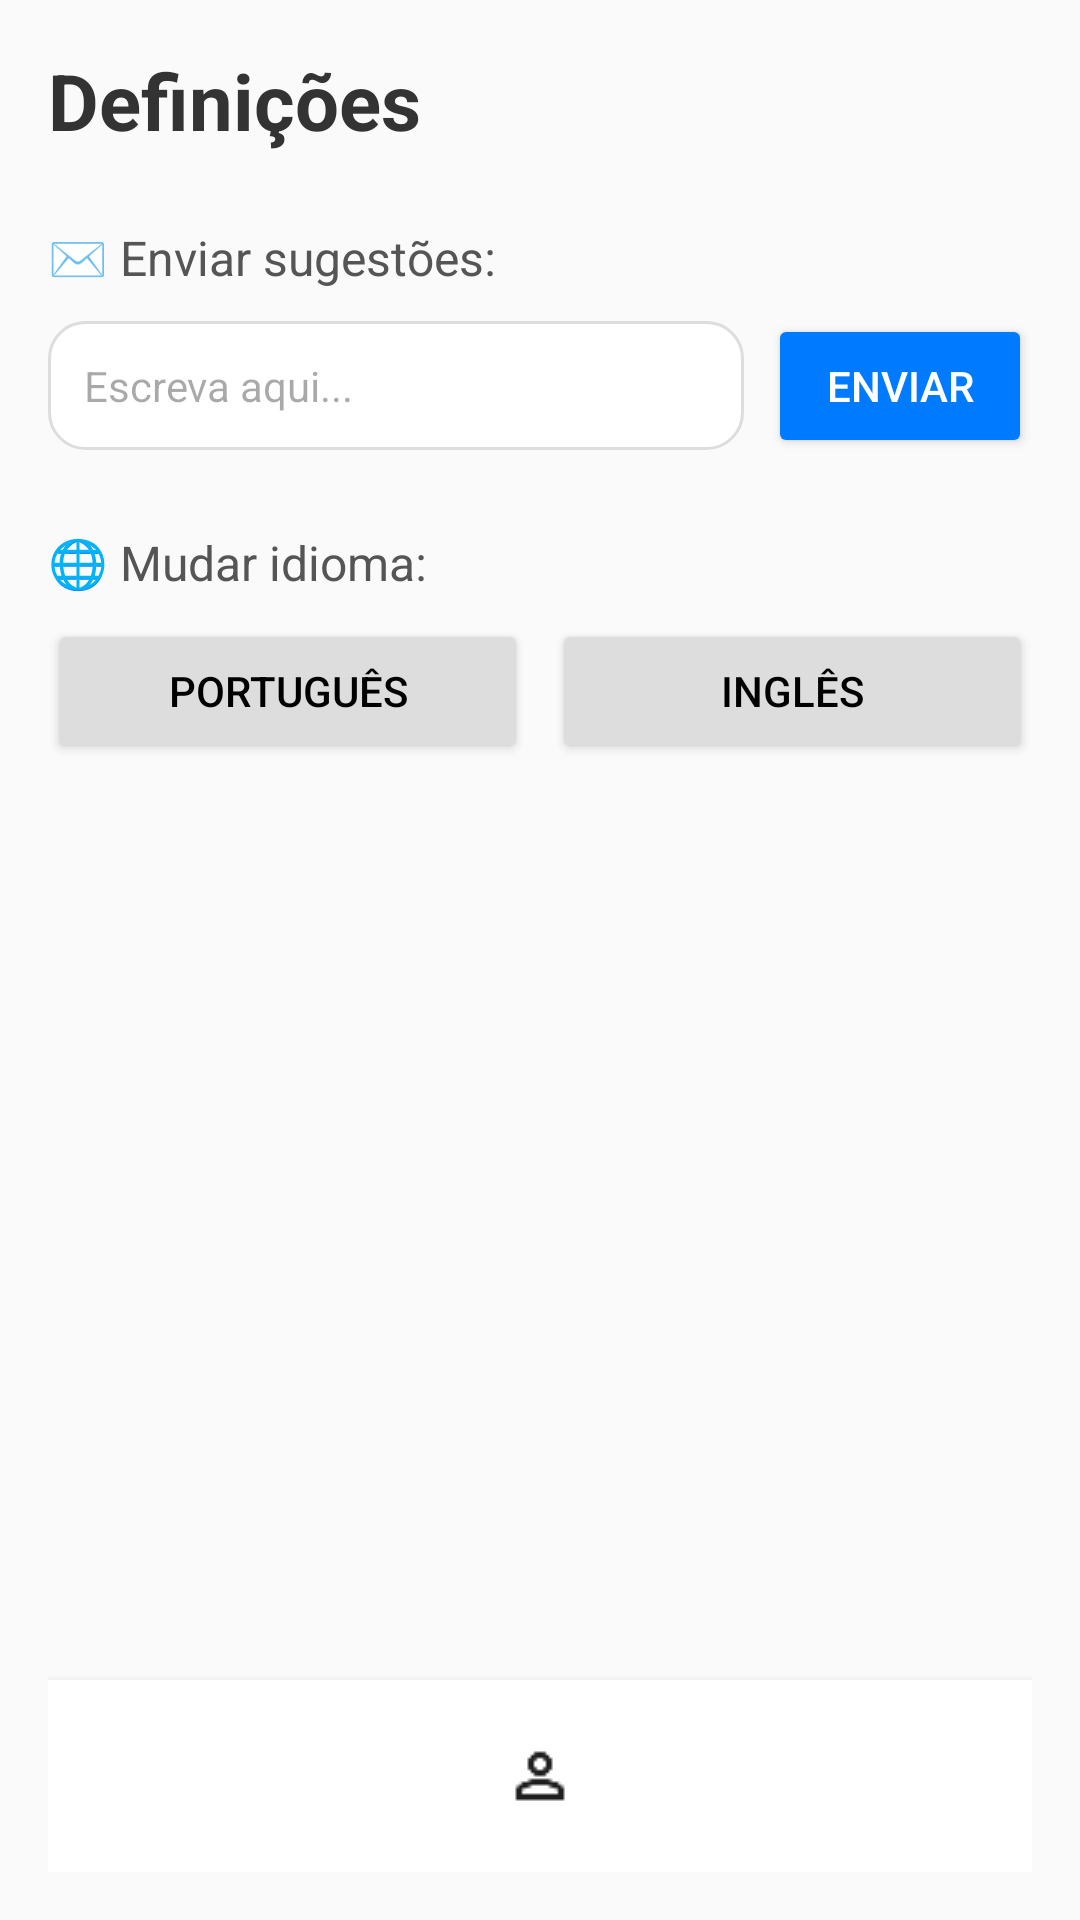

Where icons sit on this 1080×1920 app screen, as box(x1, y1, x2, y2):
Perfil: box(515, 1751, 565, 1801)
